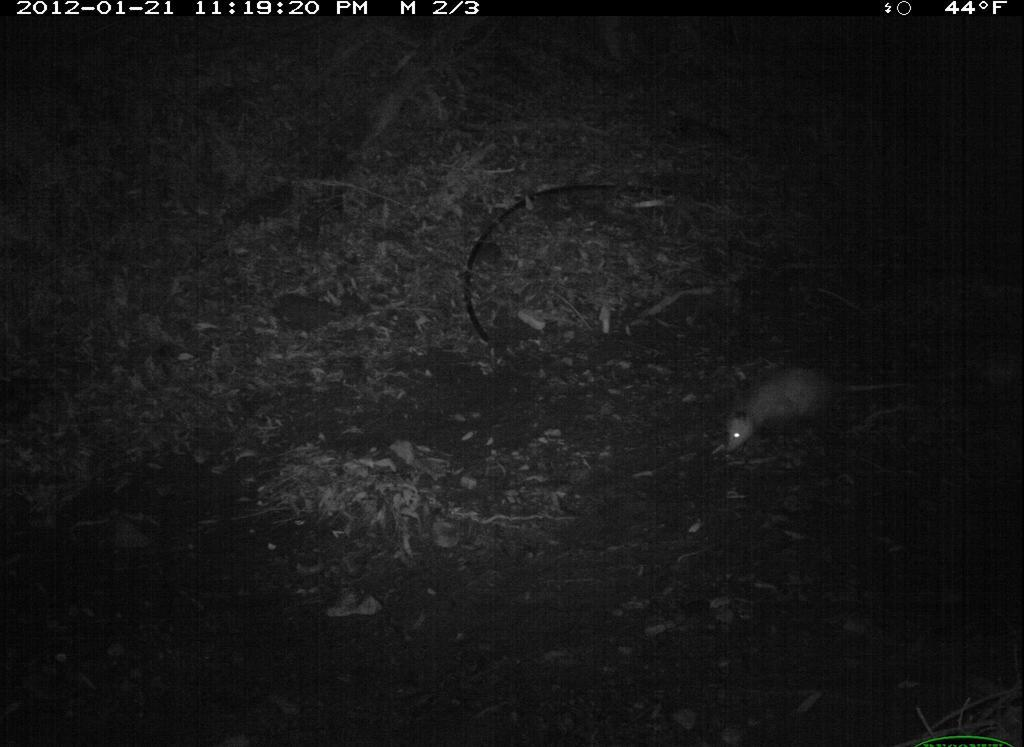opossum: (703, 344, 848, 460)
